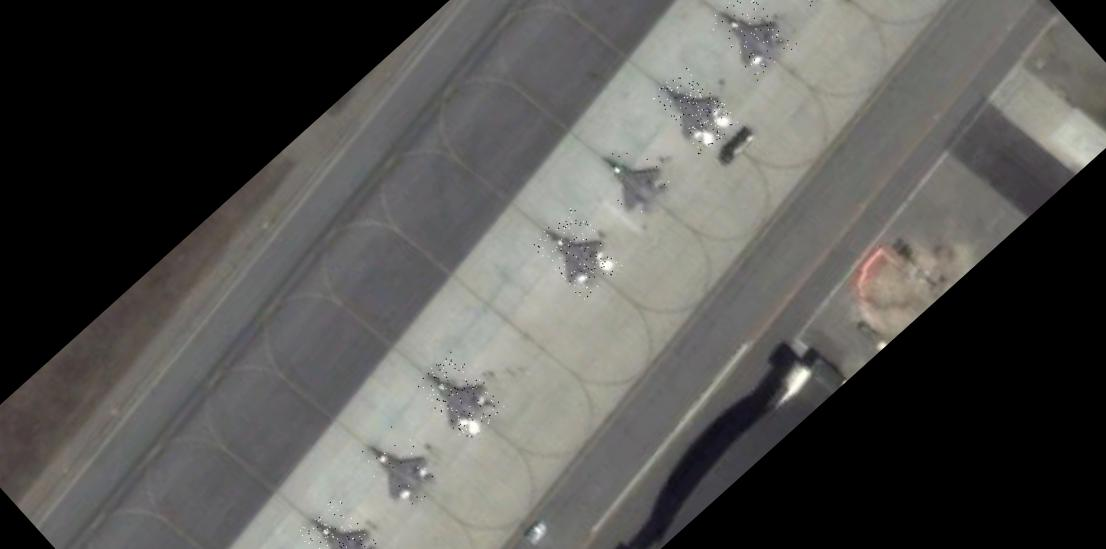A15: (530, 204, 625, 300), (413, 346, 506, 442), (352, 418, 445, 514), (586, 132, 678, 224), (648, 62, 739, 155), (705, 0, 797, 79), (295, 494, 387, 549)
